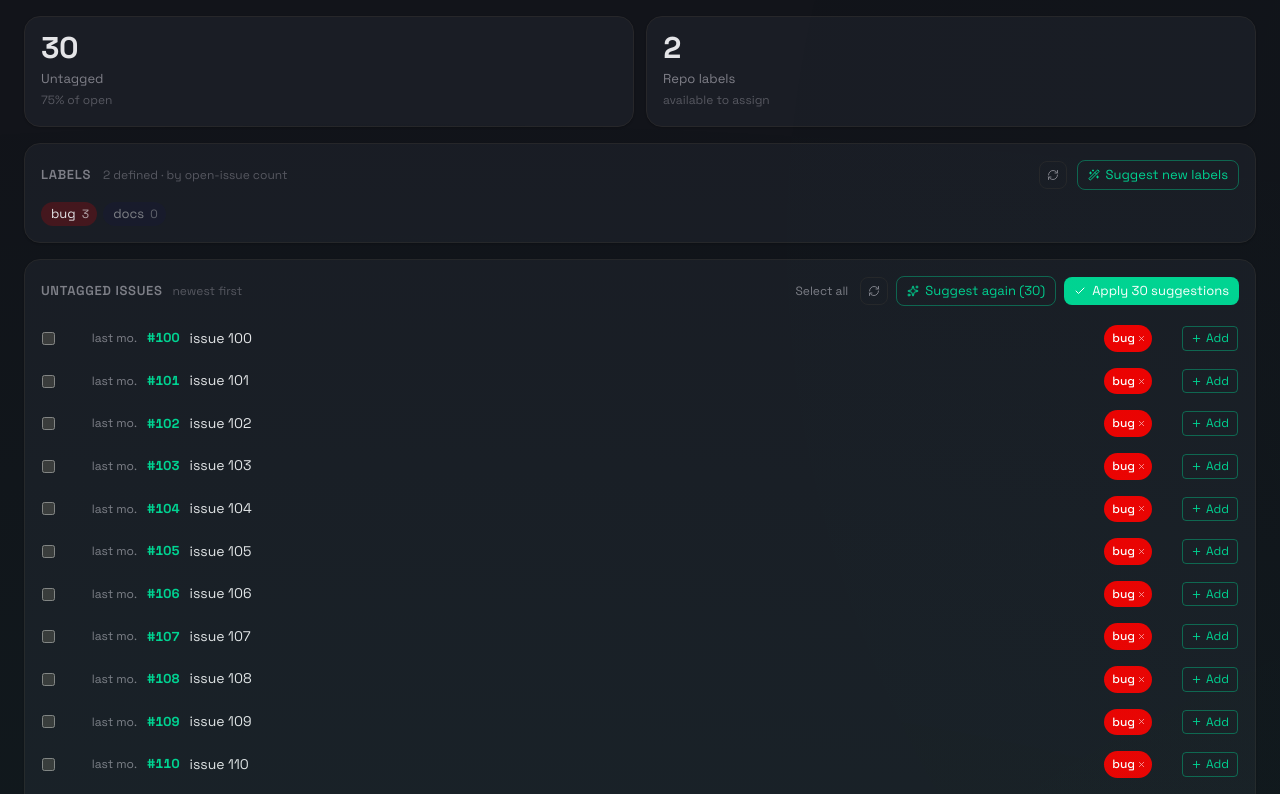
Test case: TaggingView › splits a bulk apply into requests the backend will accept
Click the button "Apply 30 suggestions": [1152, 291] box [1064,277,1239,305]
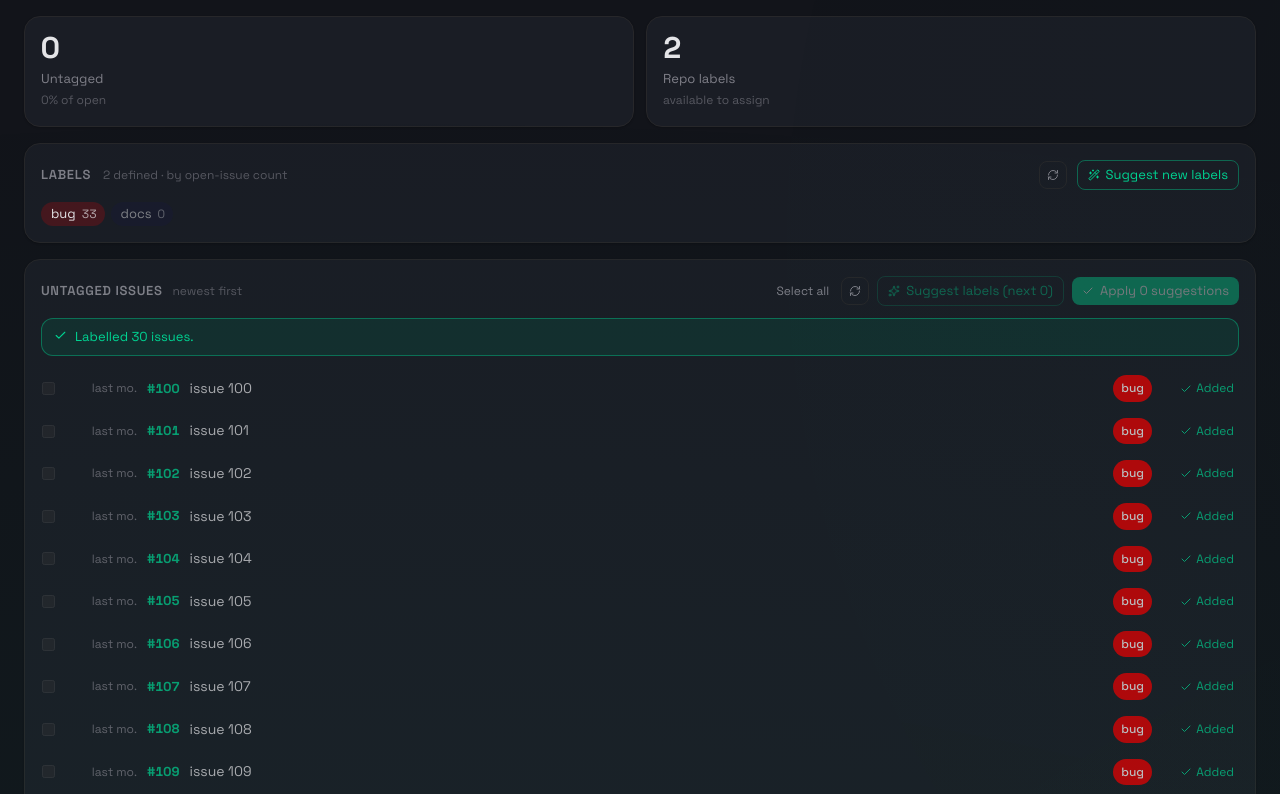
expect the text "Labelled 30 issues." is shown: met, box [75,327,194,347]
